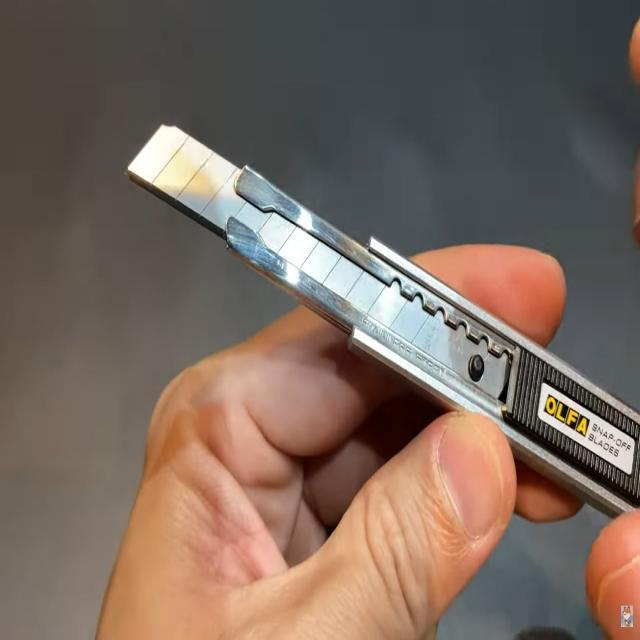cutter: (98, 95, 640, 526)
